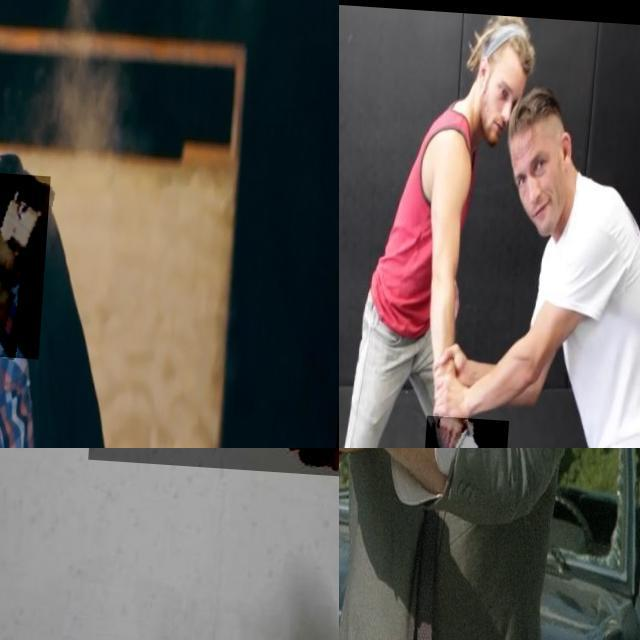-: (92, 448, 339, 522), (429, 411, 515, 448)
gun-knife-thesis - v11 Yolov5 augmented: (0, 167, 55, 354), (339, 448, 380, 520)
